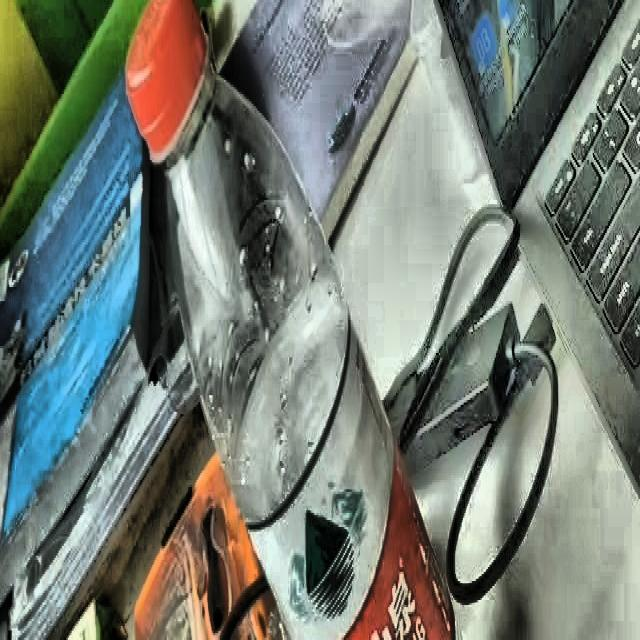plastic: (124, 0, 488, 640)
